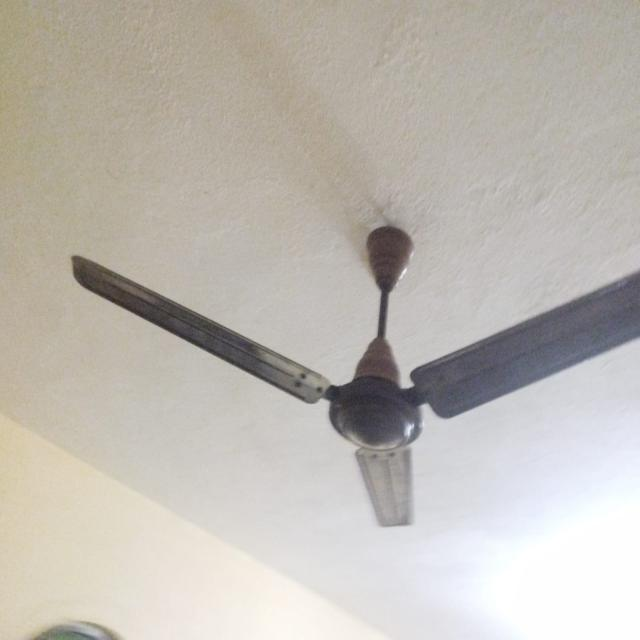fan_off: (77, 224, 640, 526)
